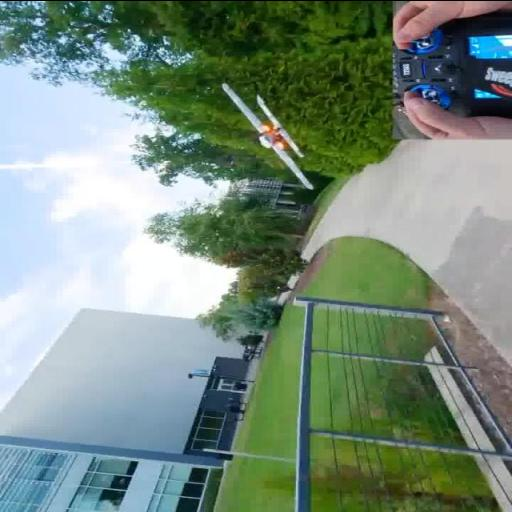uav: (210, 78, 322, 192)
